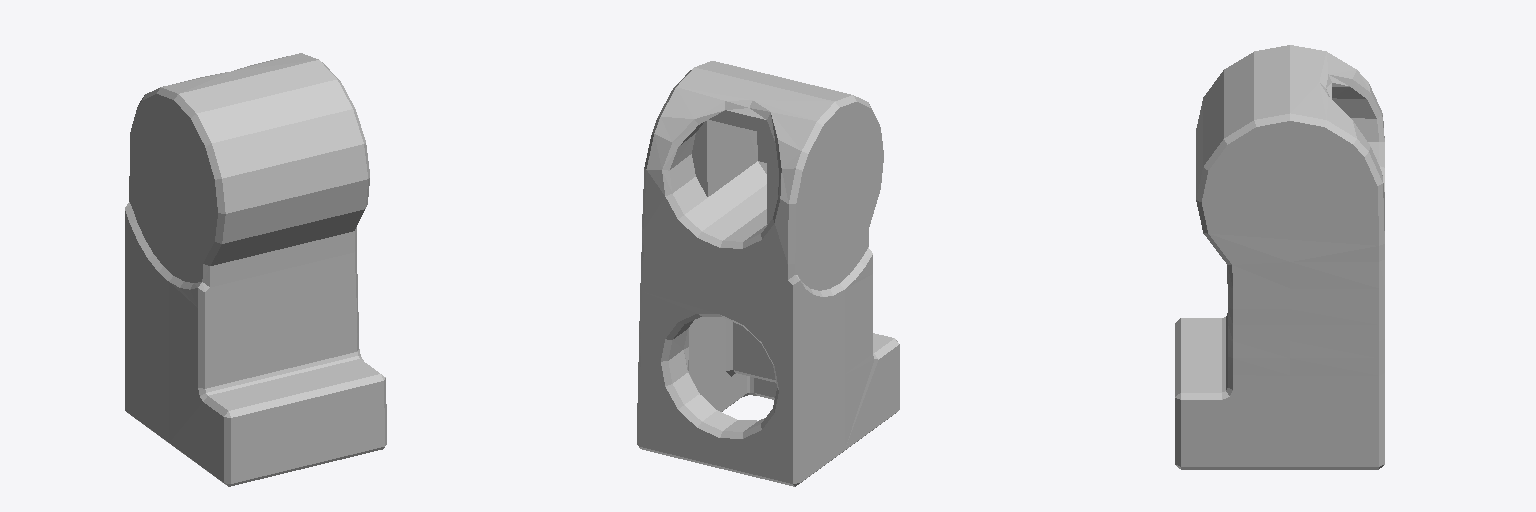
File: anakinGhostLightSaberLeftLeg.obj
3 renders of one model, left to right at view 1: azimuth 30°, elevation 25°; view 2: azimuth 150°, elevation 25°; view 3: azimuth 270°, elevation 25°, orthographic.
Visible parts, largest first — view 1: Mesh_0144_Mesh_0144Mesh; view 2: Mesh_0144_Mesh_0144Mesh; view 3: Mesh_0144_Mesh_0144Mesh.
Part boxes in pixels (left/top/right/bottom): Mesh_0144_Mesh_0144Mesh: left=125, top=53, right=386, bottom=486; Mesh_0144_Mesh_0144Mesh: left=637, top=61, right=899, bottom=486; Mesh_0144_Mesh_0144Mesh: left=1175, top=45, right=1384, bottom=469.
Size of the model in its own units: 0.0686 by 0.141 by 0.0762.